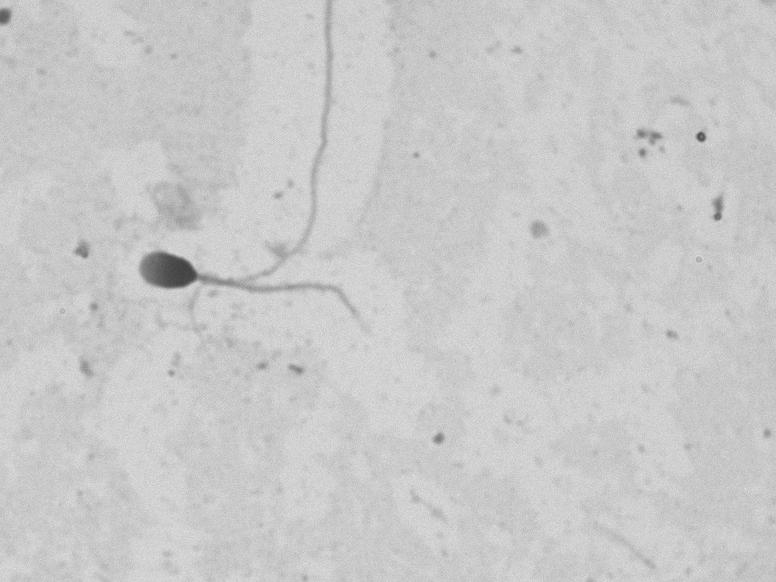Abnormal: (110, 230, 345, 337)
